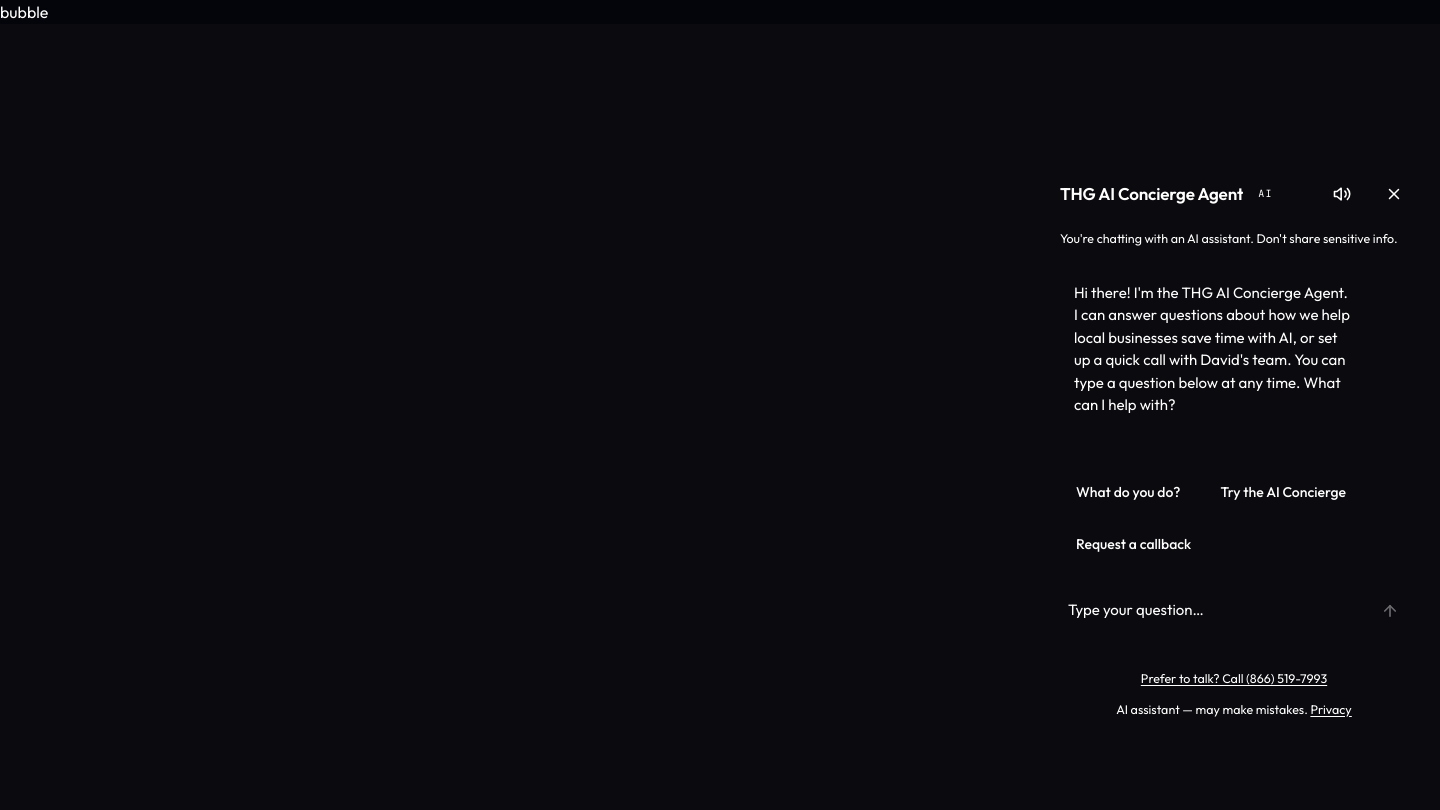
Test: ChatPanel voice: "Tap to hear replies" › appears under the reply that could not be played, as a blue 44 px button with the label and a speaker icon
The image size is (1440, 810).
Type "hello" into the text box named "Message" at (1208, 610), box top-left (1056, 588), bottom-right (1360, 632)
Then press Enter
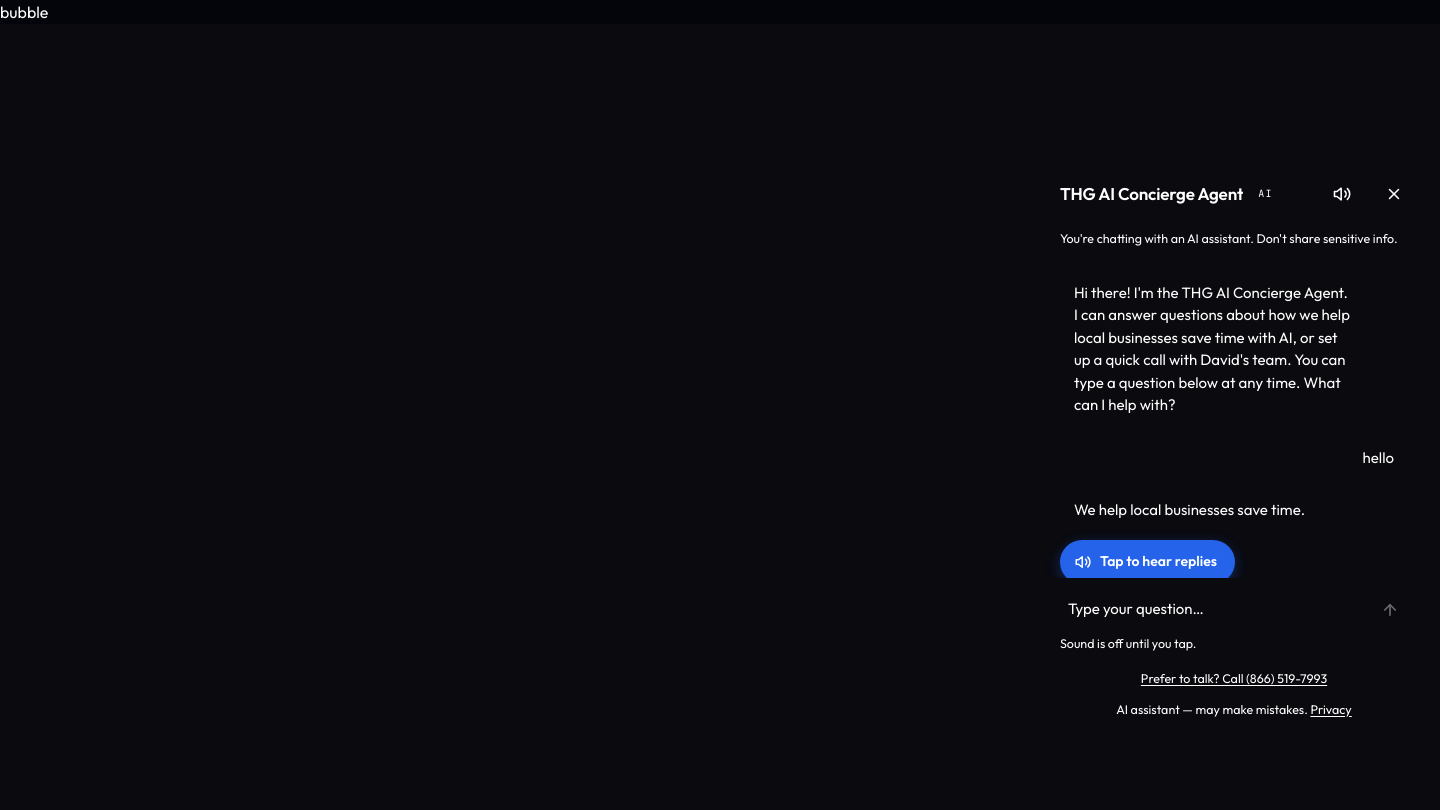
Expected: the list item "Tap to hear replies" shows "We help local businesses save time.", top-left (1074, 500), bottom-right (1305, 519)
Expected: the number of buttons "Tap to hear replies" is 1, top-left (1060, 540), bottom-right (1235, 578)
